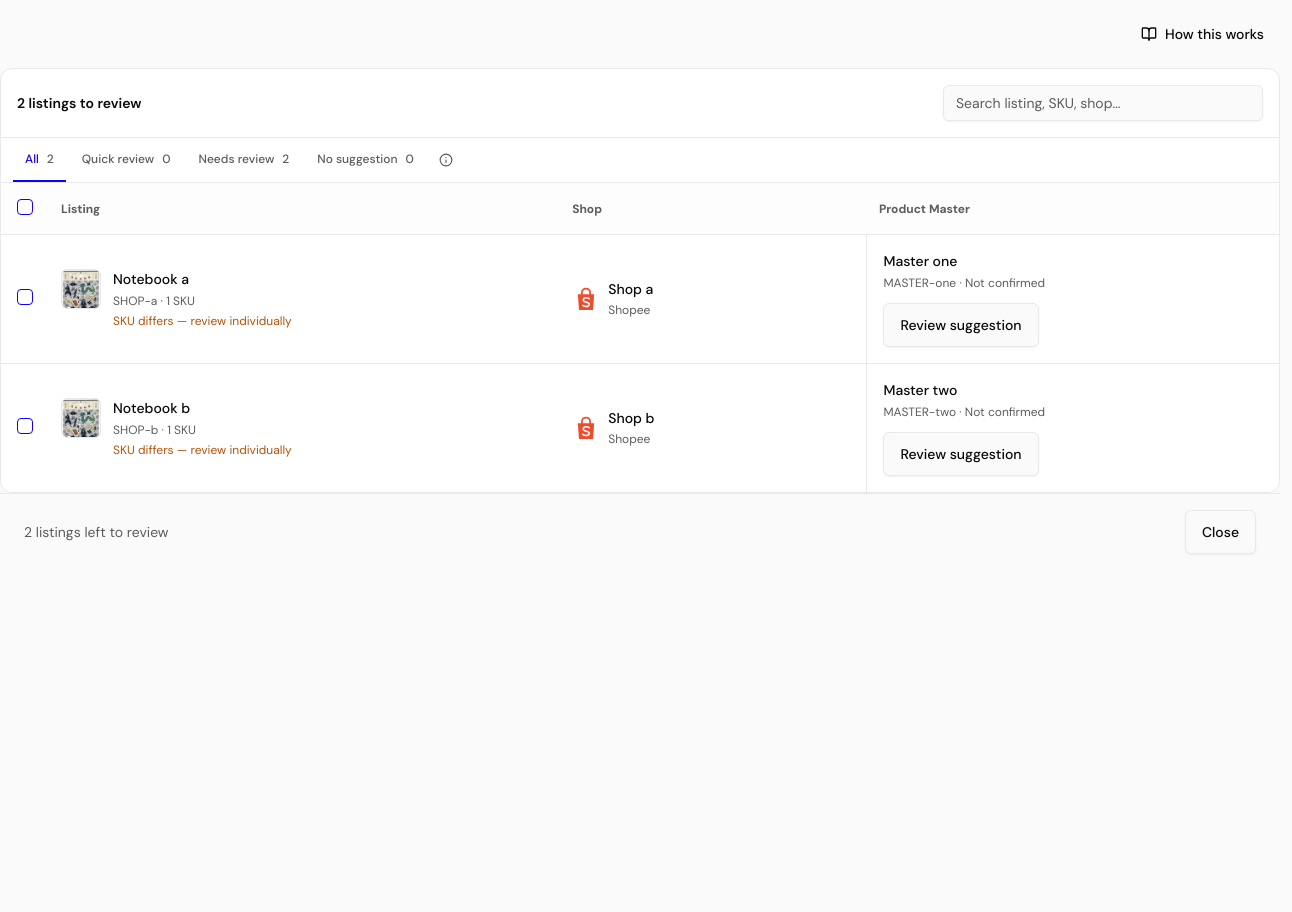
Test case: Shared suggested Master groups › asks for a destination when checked listings have different suggested Masters
Step 1. Click the checkbox named "Select visible shop listings" → [25, 207], box x1=17 y1=199 x2=33 y2=215
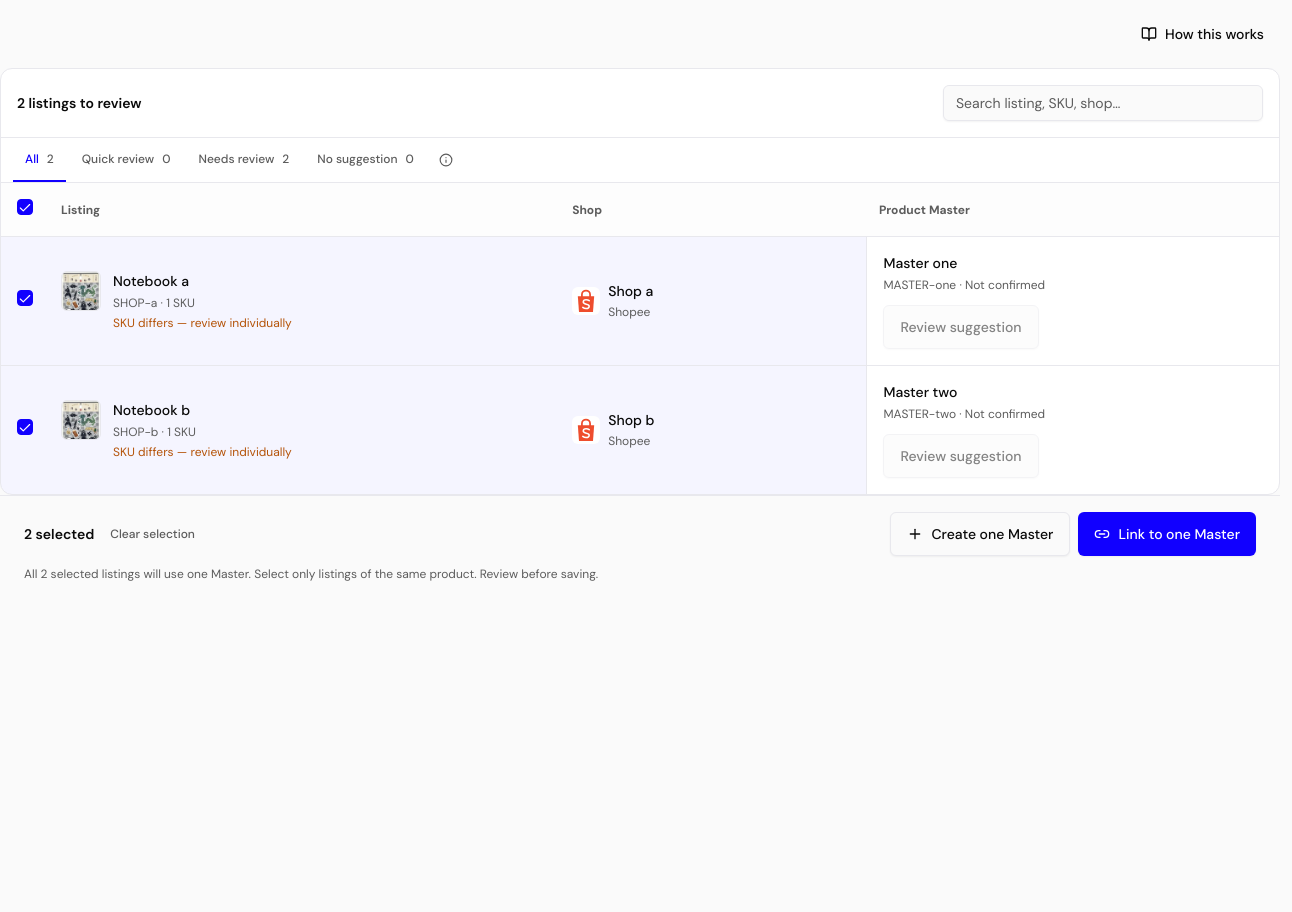
Step 2. Click the button "Link to one Master" → [1167, 534], box x1=1078 y1=512 x2=1256 y2=556
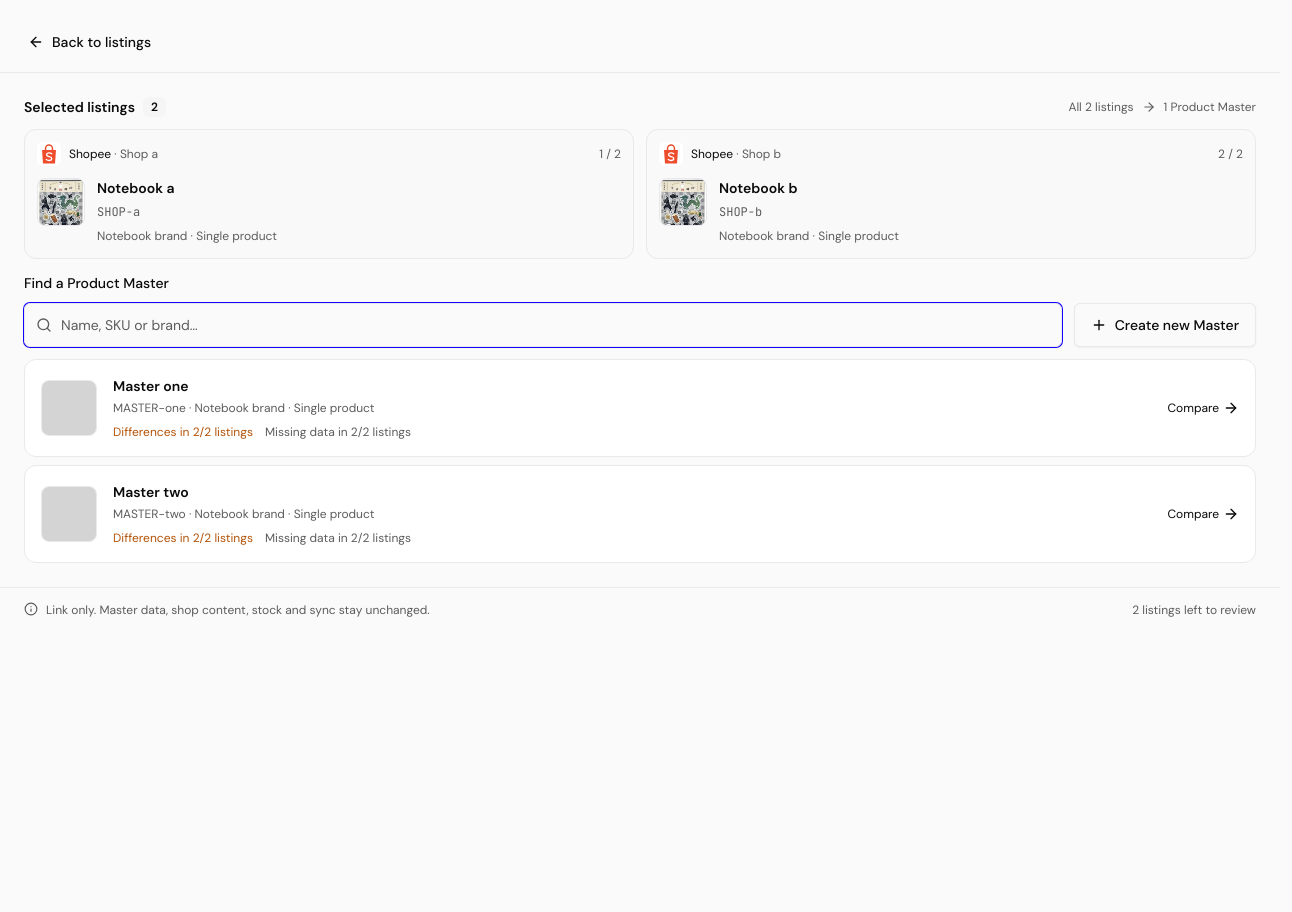
Result: the element named "Find a Product Master" is shown
Result: the element "Selected listings 2" shows "SHOP-a" at x1=97 y1=204 x2=140 y2=220
Result: the element "Selected listings 2" shows "SHOP-b" at x1=719 y1=204 x2=762 y2=220
